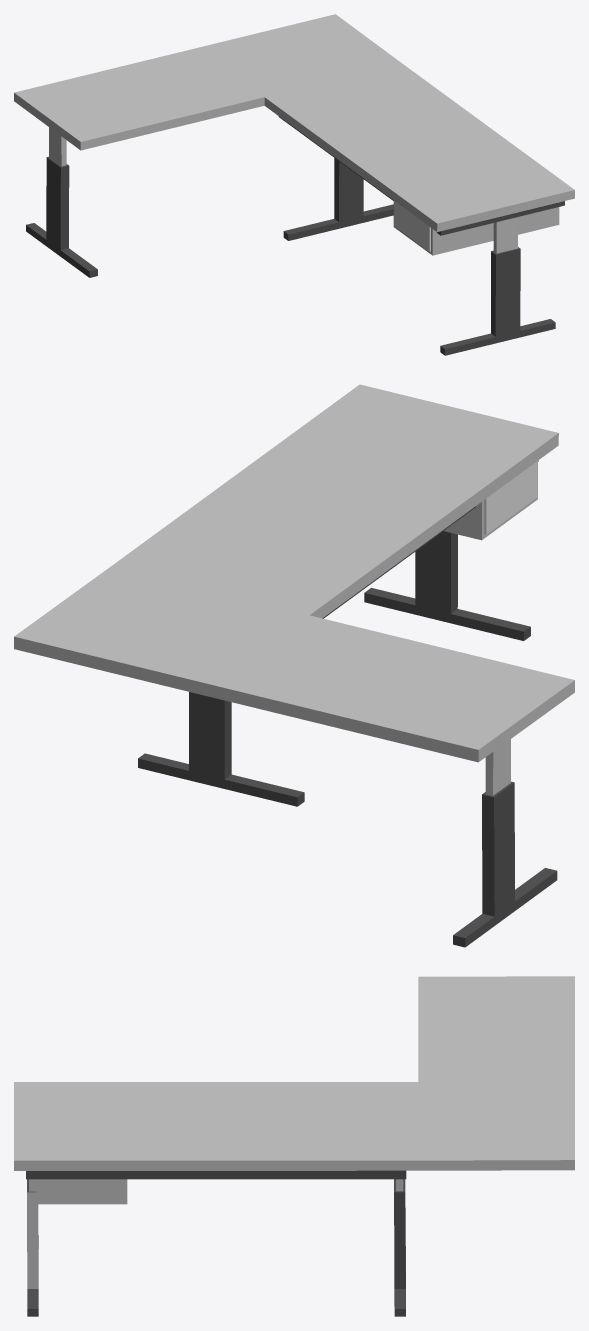
The model's file is F_Table_01.fbx.
The picture shows the model from 3 angles, top to bottom: view 1: azimuth 30°, elevation 25°; view 2: azimuth 150°, elevation 25°; view 3: azimuth 270°, elevation 25°; orthographic projection. The views are drawn at different scales.
Parts seen in each view (by area): view 1: F_Table_01, F_Table_01_01; view 2: F_Table_01, F_Table_01_01; view 3: F_Table_01.
Boxes of the visible parts, x1,y1,x2,y2 form: F_Table_01: (14, 14, 574, 355); F_Table_01_01: (394, 201, 430, 251); F_Table_01: (14, 384, 574, 947); F_Table_01_01: (484, 461, 537, 534); F_Table_01: (14, 976, 574, 1316).
Size of the model in its own units: 215 by 89.46 by 277.
Materials: 1 (1 with a texture image).
